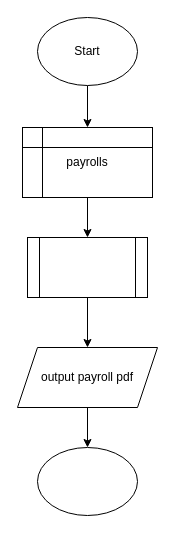
The diagram is 175 pixels wide and 533 high, and some of its shapes have lost their labels. Here are the shapes that lost their labels. From the top down, the box of each, then its label:
(26, 236, 148, 298): print pdf
(36, 446, 138, 516): End
